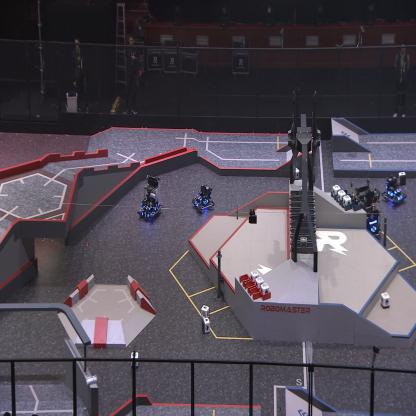car: (352, 184, 382, 238), (137, 174, 163, 223), (382, 174, 408, 207), (191, 182, 215, 212)
